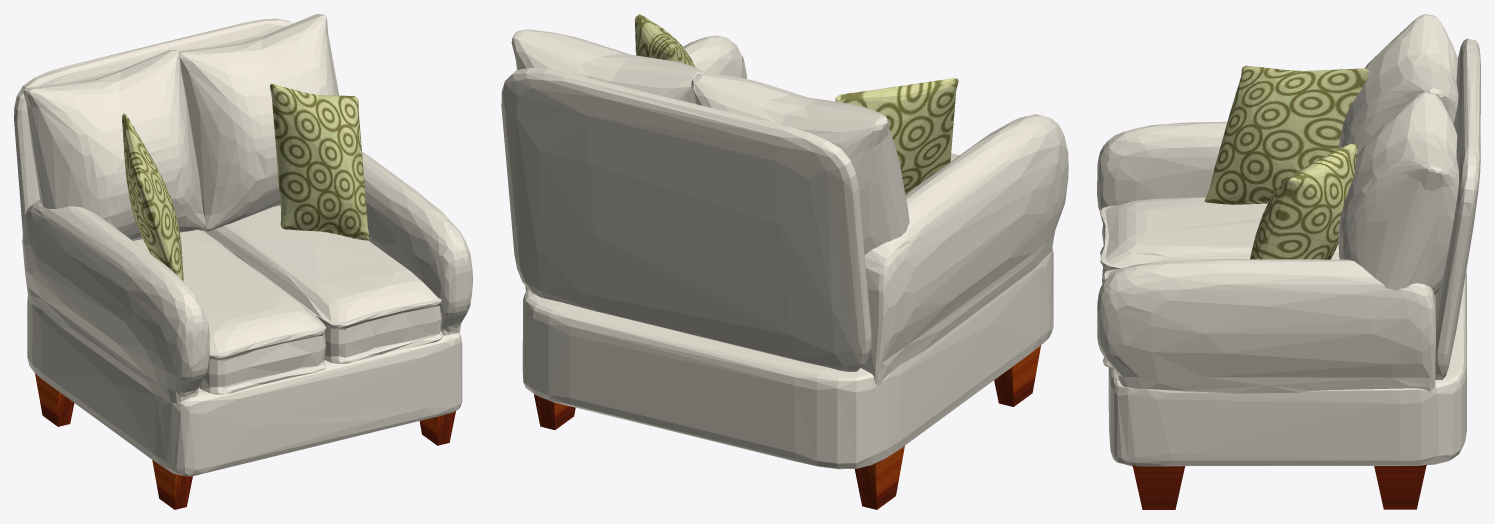
Rendered from sh-contrib-couch-poofy-pillows.glb.
The picture shows the model from 3 angles, left to right: view 1: azimuth 30°, elevation 25°; view 2: azimuth 150°, elevation 25°; view 3: azimuth 270°, elevation 25°; orthographic projection. The views are drawn at different scales.
Parts seen in each view (by area): view 1: PolyMesh_2, PolyMesh_1_2, PolyMesh_5; view 2: PolyMesh_2, PolyMesh_1_2, PolyMesh_5; view 3: PolyMesh_2, PolyMesh_1_2, PolyMesh_5.
Boxes of the visible parts, x1=… form: PolyMesh_2: x1=14, y1=14, x2=472, y2=476; PolyMesh_1_2: x1=122, y1=84, x2=369, y2=280; PolyMesh_5: x1=35, y1=373, x2=455, y2=509; PolyMesh_2: x1=501, y1=29, x2=1068, y2=469; PolyMesh_1_2: x1=634, y1=14, x2=958, y2=194; PolyMesh_5: x1=534, y1=345, x2=1040, y2=509; PolyMesh_2: x1=1097, y1=14, x2=1480, y2=466; PolyMesh_1_2: x1=1204, y1=65, x2=1369, y2=259; PolyMesh_5: x1=1132, y1=464, x2=1426, y2=509.
Bounding box in the file's own units: 0.9983 × 0.9999 × 0.9984.
Materials: 3 (2 with a texture image).
